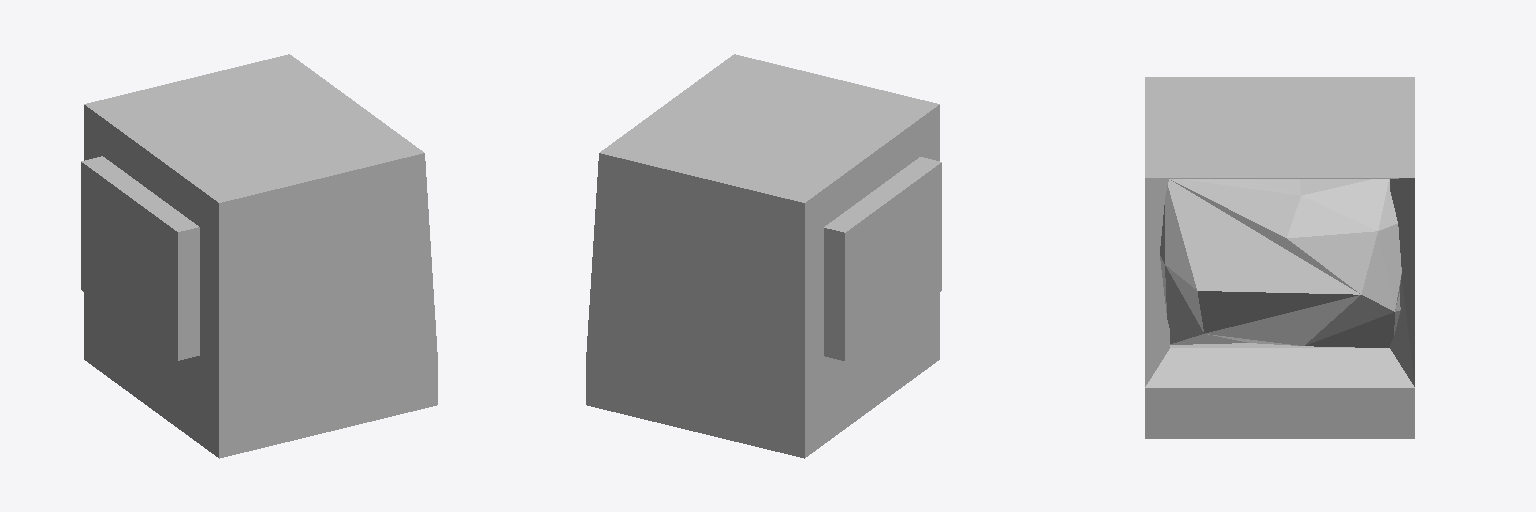
The model's file is Tele.obj.
3 views of the same model, side by side, from view 1: azimuth 30°, elevation 25°; view 2: azimuth 150°, elevation 25°; view 3: azimuth 270°, elevation 25° (orthographic).
Visible parts, largest first — view 1: Cube, Cube.001; view 2: Cube, Cube.001; view 3: Cube, Icosphere.
Boxes of the visible parts, box(x1,y1,x2,y2) form: Cube: box(84, 54, 437, 458); Cube.001: box(81, 156, 199, 360); Cube: box(586, 54, 939, 458); Cube.001: box(824, 157, 941, 360); Cube: box(1145, 77, 1414, 438); Icosphere: box(1160, 179, 1401, 347).
Size of the model in its own units: 2.59 by 2.5 by 2.4.